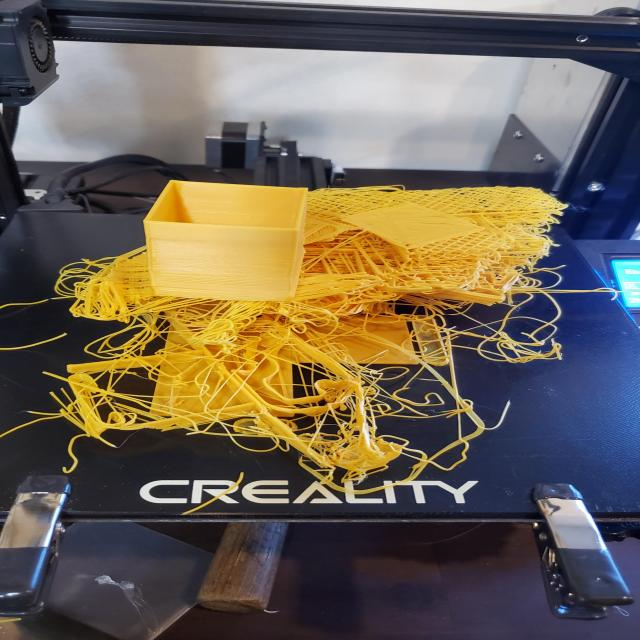Spaghetti: (18, 246, 558, 482)
